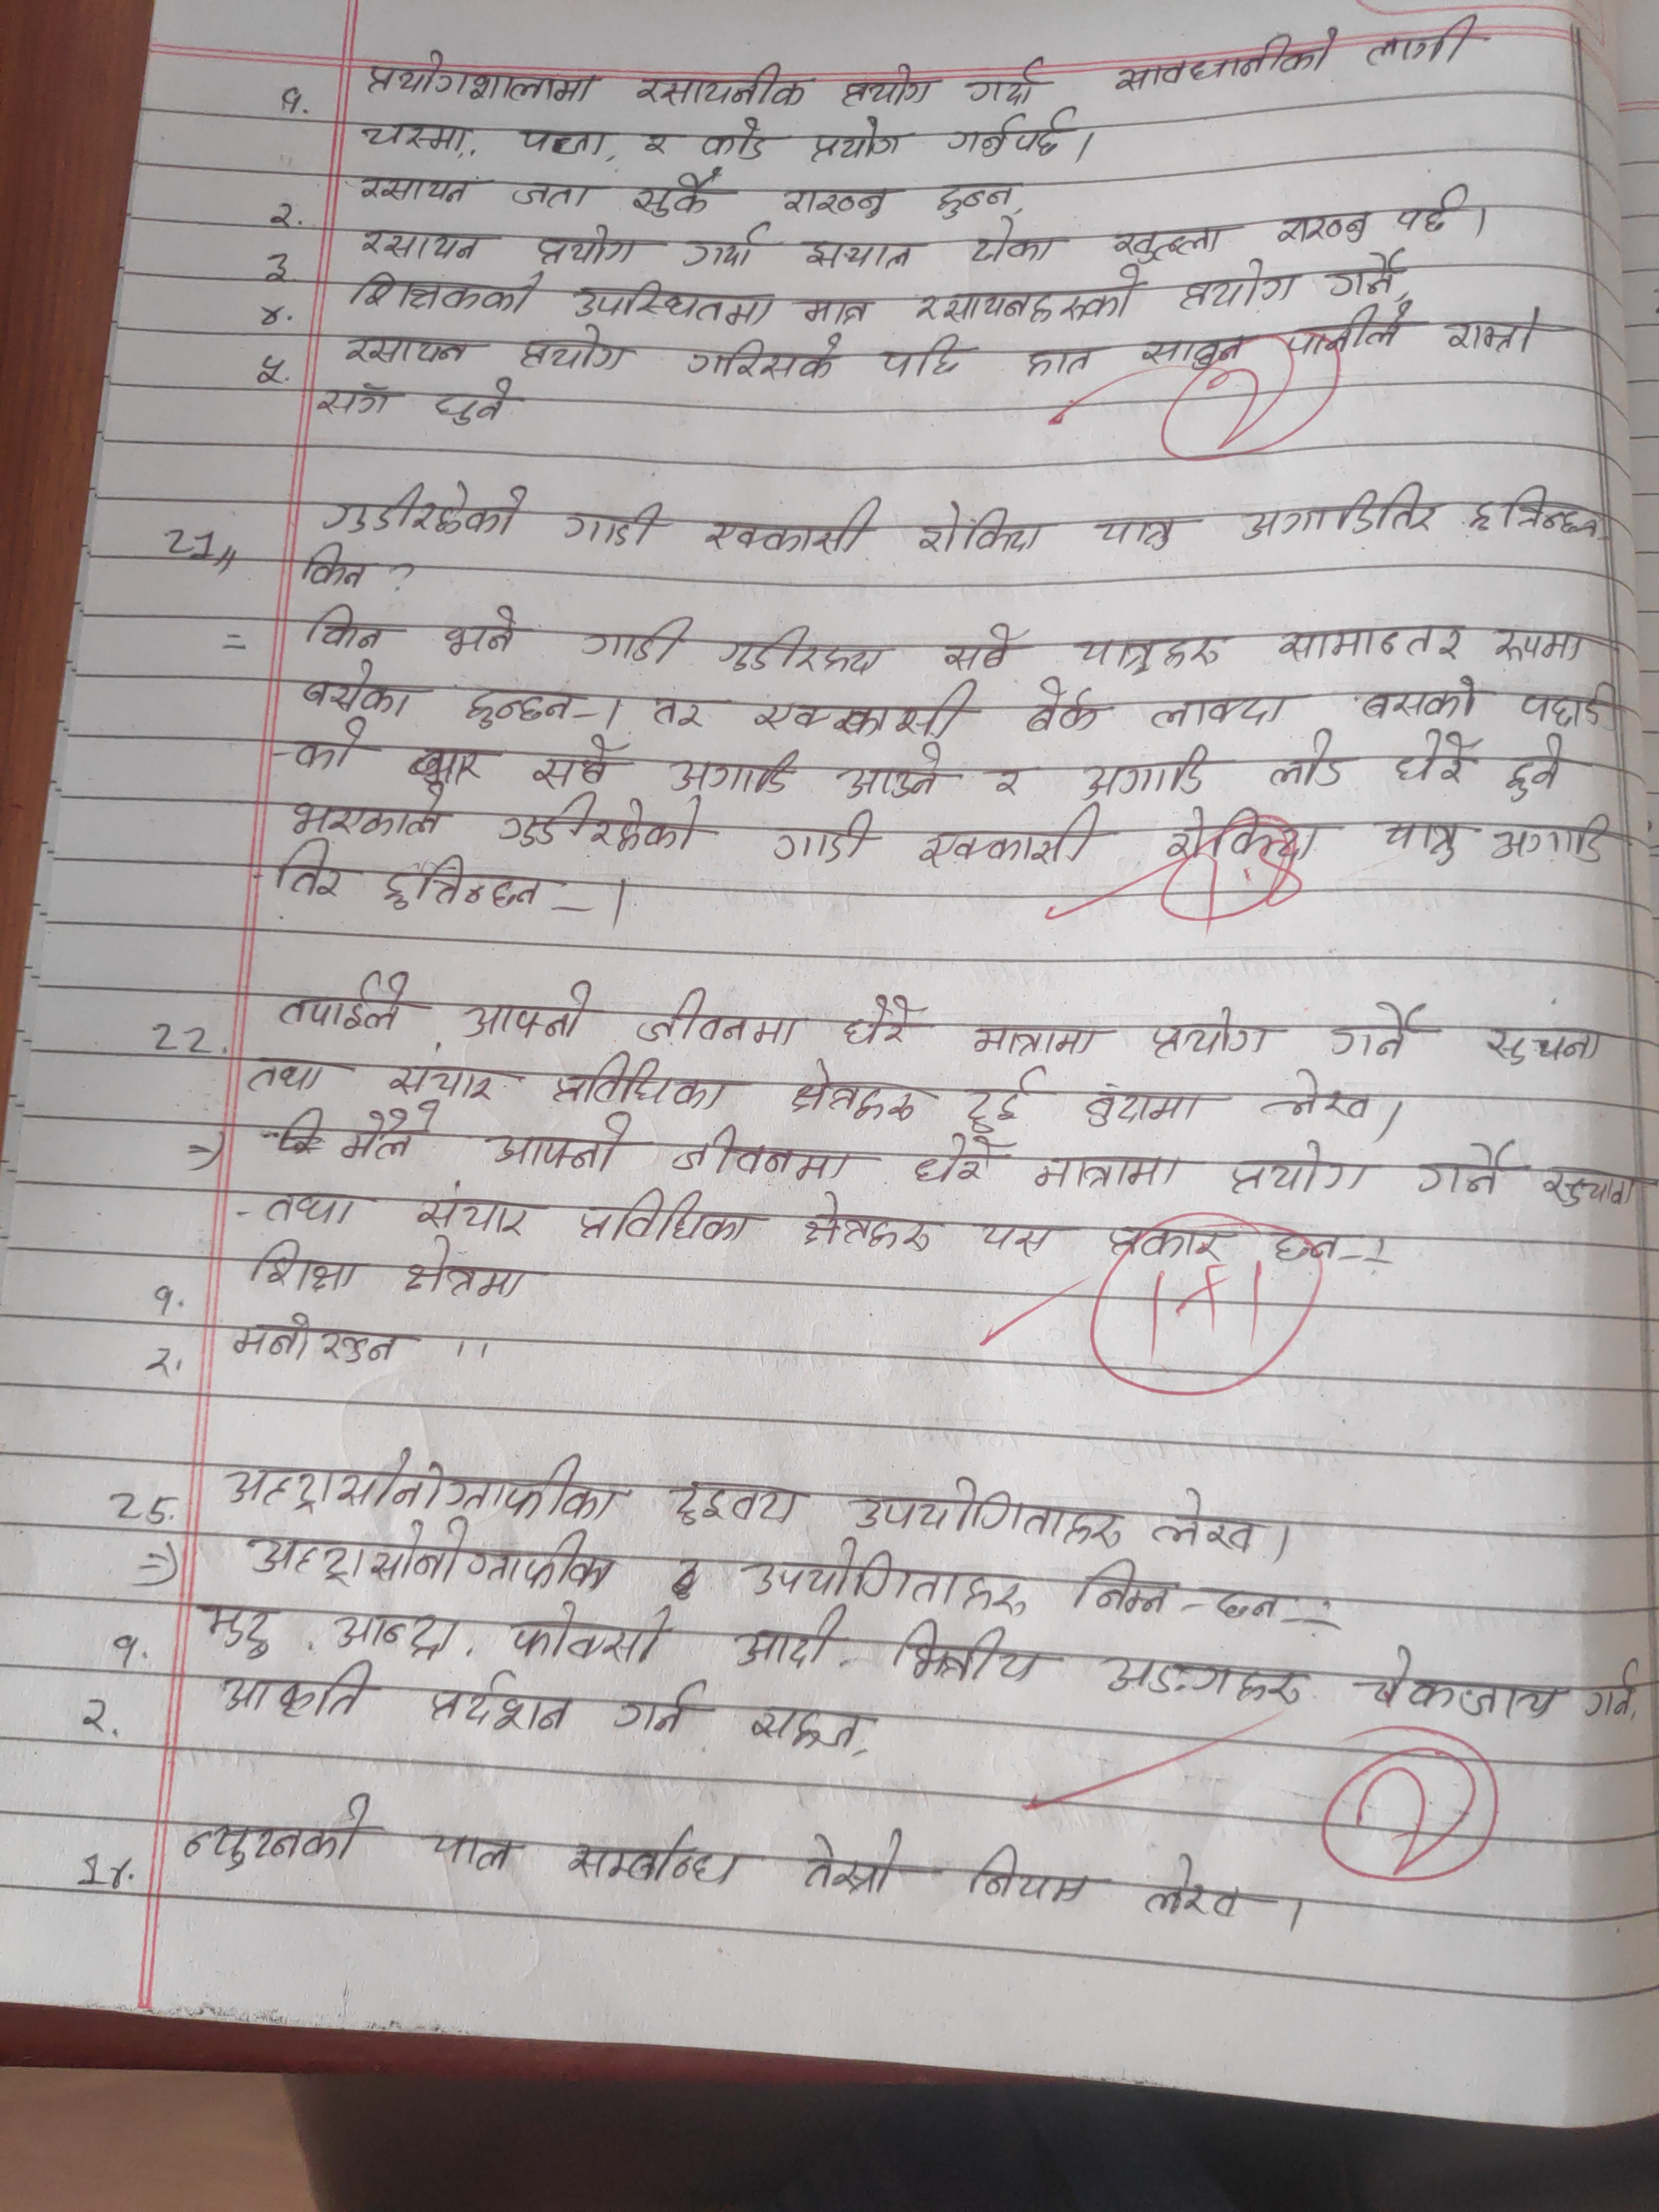text: (218, 1440, 629, 1524), (242, 1524, 624, 1594), (734, 1547, 1032, 1615), (849, 1477, 1117, 1548), (1351, 1648, 1568, 1723), (179, 1794, 376, 1876), (1110, 30, 1345, 98), (749, 678, 981, 744), (488, 794, 709, 857), (361, 49, 606, 105), (910, 270, 1141, 326), (915, 806, 1110, 873), (565, 1827, 762, 1892), (1101, 1649, 1309, 1710), (218, 1658, 390, 1730), (321, 481, 540, 536), (545, 1052, 737, 1115), (575, 1184, 765, 1247), (669, 1123, 864, 1184), (566, 277, 781, 331), (633, 984, 807, 1050), (500, 1601, 683, 1663), (1239, 484, 1445, 540), (708, 496, 885, 561), (376, 852, 554, 916), (889, 1615, 1049, 1686), (716, 622, 894, 685), (418, 1665, 577, 1733), (228, 1308, 413, 1366), (479, 1113, 640, 1177), (277, 967, 416, 1040), (796, 1190, 943, 1259), (347, 265, 540, 317), (286, 782, 451, 843), (1222, 1136, 1370, 1202), (1061, 629, 1239, 683), (716, 1608, 856, 1676), (1269, 615, 1460, 664), (659, 1475, 812, 1536), (633, 64, 819, 113), (460, 981, 598, 1045), (1164, 808, 1328, 862), (1138, 1855, 1260, 1926), (788, 1061, 924, 1123), (793, 1827, 913, 1897), (967, 1843, 1089, 1911), (1147, 1482, 1265, 1552), (324, 1602, 465, 1660), (1077, 1075, 1213, 1134), (1147, 686, 1300, 738), (746, 1691, 870, 1756), (1467, 488, 1605, 545), (683, 334, 845, 383), (1061, 1555, 1183, 1616), (917, 500, 1049, 556), (1480, 1017, 1612, 1073), (244, 1235, 364, 1296), (833, 742, 950, 805), (1490, 806, 1612, 866), (1079, 747, 1222, 798), (296, 662, 427, 716), (1028, 1151, 1190, 1195), (401, 1244, 532, 1298), (410, 1184, 538, 1238), (943, 113, 1075, 165), (1408, 1139, 1521, 1200), (1143, 1010, 1279, 1061), (425, 1824, 532, 1888), (1175, 258, 1300, 312), (1366, 16, 1495, 68), (1358, 671, 1486, 723), (965, 1015, 1108, 1062), (1260, 1068, 1377, 1125), (511, 324, 641, 374), (382, 1049, 504, 1103), (335, 1103, 439, 1165), (598, 1672, 699, 1737), (1100, 1219, 1237, 1264), (1324, 1000, 1424, 1062), (1201, 1575, 1312, 1630), (765, 810, 884, 862), (579, 615, 701, 665), (453, 683, 584, 730), (1279, 310, 1408, 357), (195, 1594, 284, 1662), (357, 225, 493, 268), (1445, 307, 1553, 361), (333, 331, 483, 369), (955, 1064, 1040, 1130), (1516, 676, 1617, 732), (272, 840, 352, 909), (559, 505, 678, 552), (352, 165, 479, 209), (1103, 219, 1230, 263), (525, 735, 620, 792), (437, 599, 525, 662), (1485, 617, 1596, 665), (958, 52, 1053, 110), (904, 1136, 1002, 1190), (1535, 1163, 1643, 1212), (1136, 331, 1248, 378), (530, 226, 650, 270), (258, 1184, 368, 1231), (1377, 810, 1469, 866), (1499, 732, 1570, 803), (798, 233, 918, 275), (964, 212, 1061, 263), (1094, 510, 1195, 559), (1394, 730, 1480, 787), (774, 185, 896, 225), (676, 758, 798, 798), (803, 117, 910, 162), (633, 174, 727, 225), (301, 603, 403, 650), (357, 115, 476, 155), (1270, 733, 1351, 792), (422, 381, 526, 427), (514, 117, 617, 162), (1274, 1219, 1356, 1275), (971, 1212, 1066, 1259), (234, 1050, 340, 1092), (1272, 202, 1377, 244), (833, 993, 918, 1043), (678, 225, 772, 270), (835, 66, 941, 106), (1394, 181, 1473, 235), (695, 113, 779, 164), (781, 293, 880, 334), (1579, 1658, 1643, 1721), (931, 181, 1026, 223), (941, 624, 1019, 674), (882, 334, 969, 380), (296, 542, 373, 592), (291, 723, 368, 773), (1324, 251, 1405, 298), (1026, 688, 1105, 735), (512, 178, 606, 214), (1018, 341, 1094, 383), (317, 381, 401, 420), (641, 690, 706, 735), (990, 756, 1037, 808), (634, 127, 681, 160)
